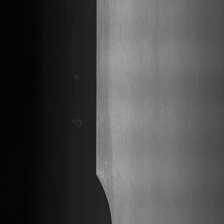crescent_gap: (94, 170, 118, 224)
